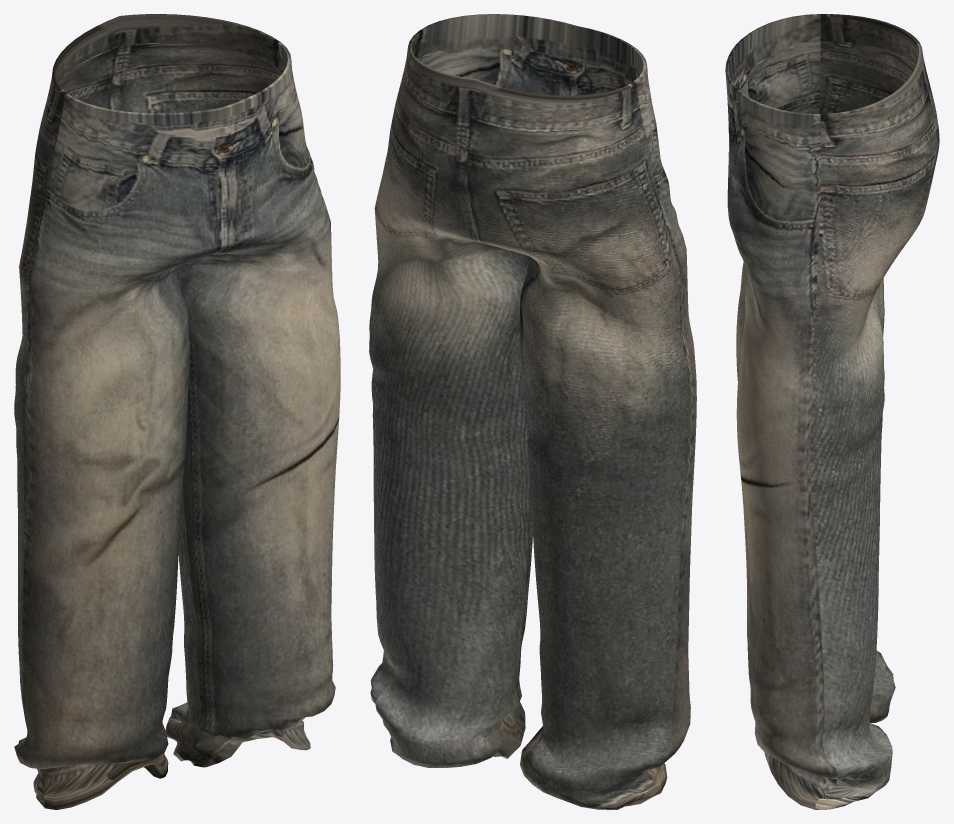
Rendered from hose.glb.
3 views of the same model, side by side, from view 1: azimuth 30°, elevation 25°; view 2: azimuth 150°, elevation 25°; view 3: azimuth 270°, elevation 25° (orthographic). The views are drawn at different scales.
Visible parts, largest first — view 1: Hose 1; view 2: Hose 1; view 3: Hose 1.
Part boxes in pixels (x1=…): Hose 1: x1=14, y1=14, x2=340, y2=809; Hose 1: x1=369, y1=14, x2=696, y2=809; Hose 1: x1=725, y1=14, x2=939, y2=809.
Bounding box in the file's own units: 0.4602 × 1.02 × 0.2843.
Materials: 1 (1 with a texture image).
